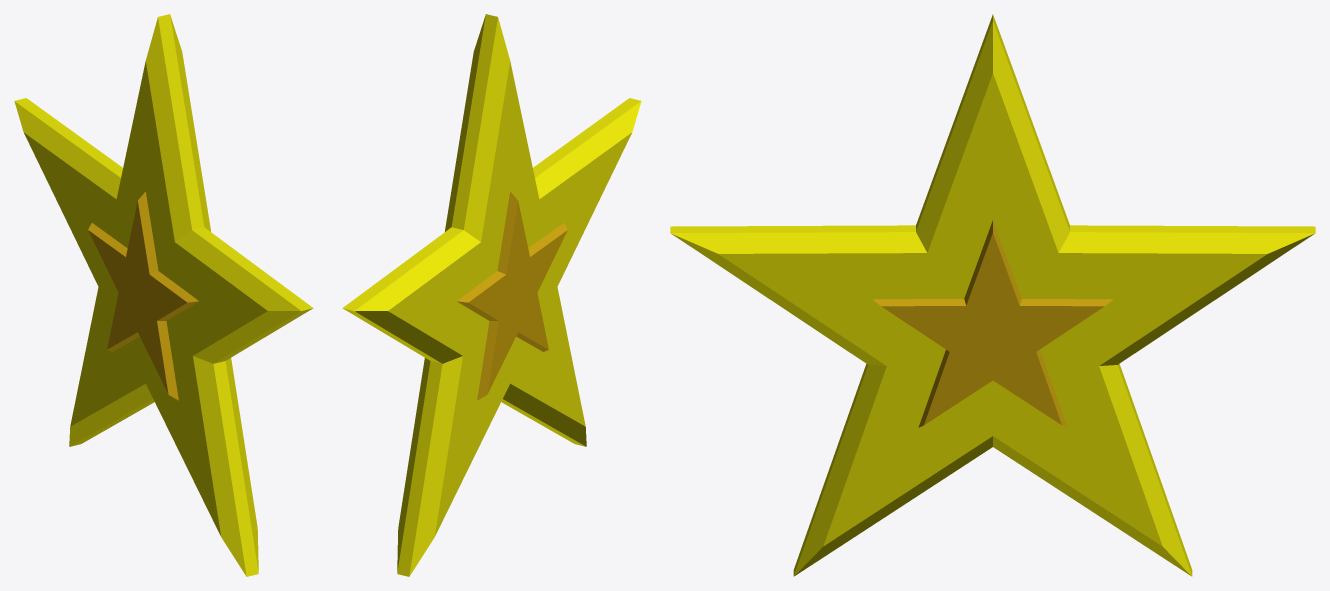
File: Star.fbx
3 renders of one model, left to right at view 1: azimuth 30°, elevation 25°; view 2: azimuth 150°, elevation 25°; view 3: azimuth 270°, elevation 25°, orthographic. The views are drawn at different scales.
Parts seen in each view (by area): view 1: Star; view 2: Star; view 3: Star.
Part boxes in pixels (x1,y1,x2,y2): Star: [14, 14, 313, 576]; Star: [342, 14, 641, 576]; Star: [670, 14, 1315, 576].
Size of the model in its own units: 60.17 by 543 by 571.
